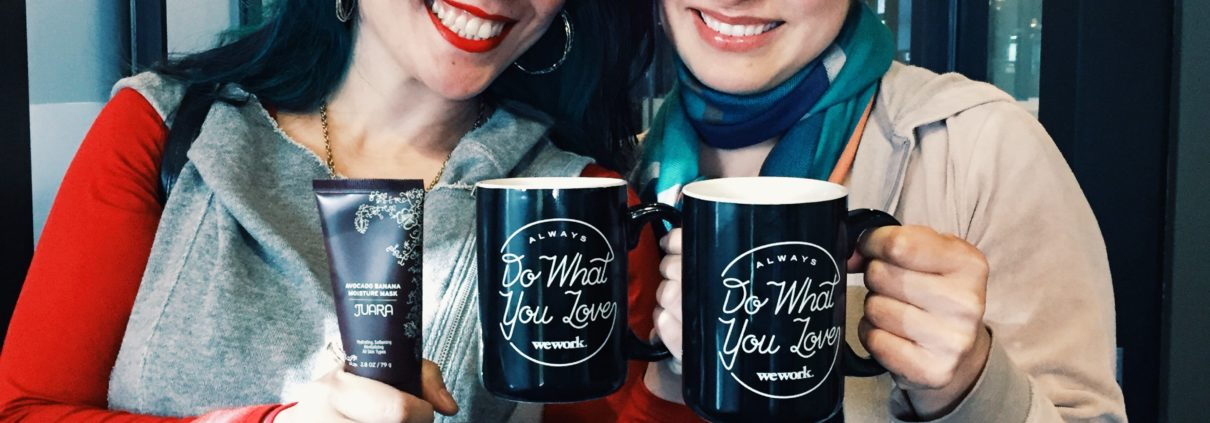wework: (756, 363, 812, 382), (530, 334, 585, 350)
